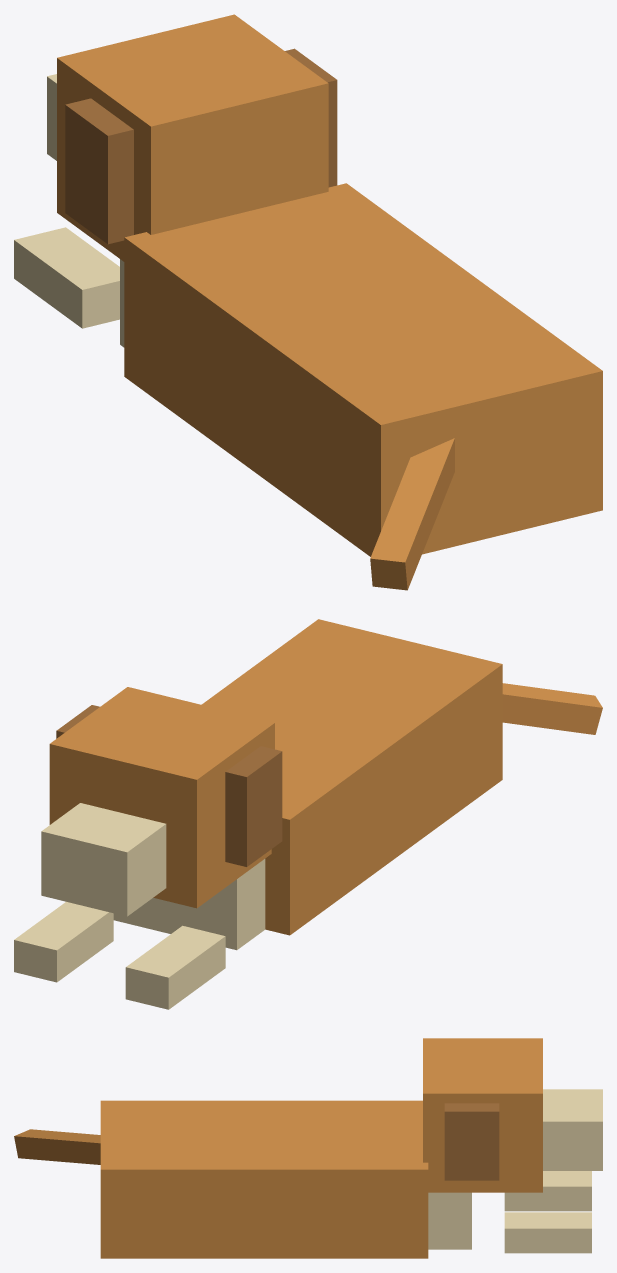
Rendered from cachorro_caramelo.glb.
3 renders of one model, top to bottom at view 1: azimuth 30°, elevation 25°; view 2: azimuth 150°, elevation 25°; view 3: azimuth 270°, elevation 25°, orthographic. The views are drawn at different scales.
Parts seen in each view (by area): view 1: corpo; view 2: corpo; view 3: corpo.
Boxes of the visible parts, <box> form: corpo: <box>14,14,602,590</box>; corpo: <box>14,619,602,1009</box>; corpo: <box>14,1038,602,1258</box>.
Size of the model in its own units: 0.1969 by 0.16 by 0.5394.
